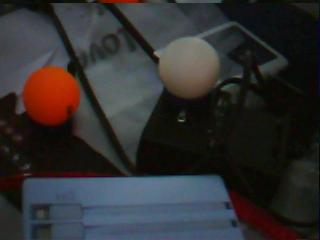oball: (22, 67, 78, 124)
